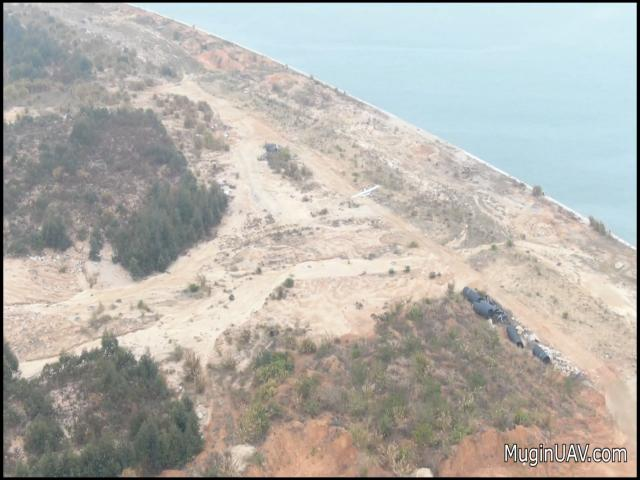plane: (351, 184, 381, 202)
